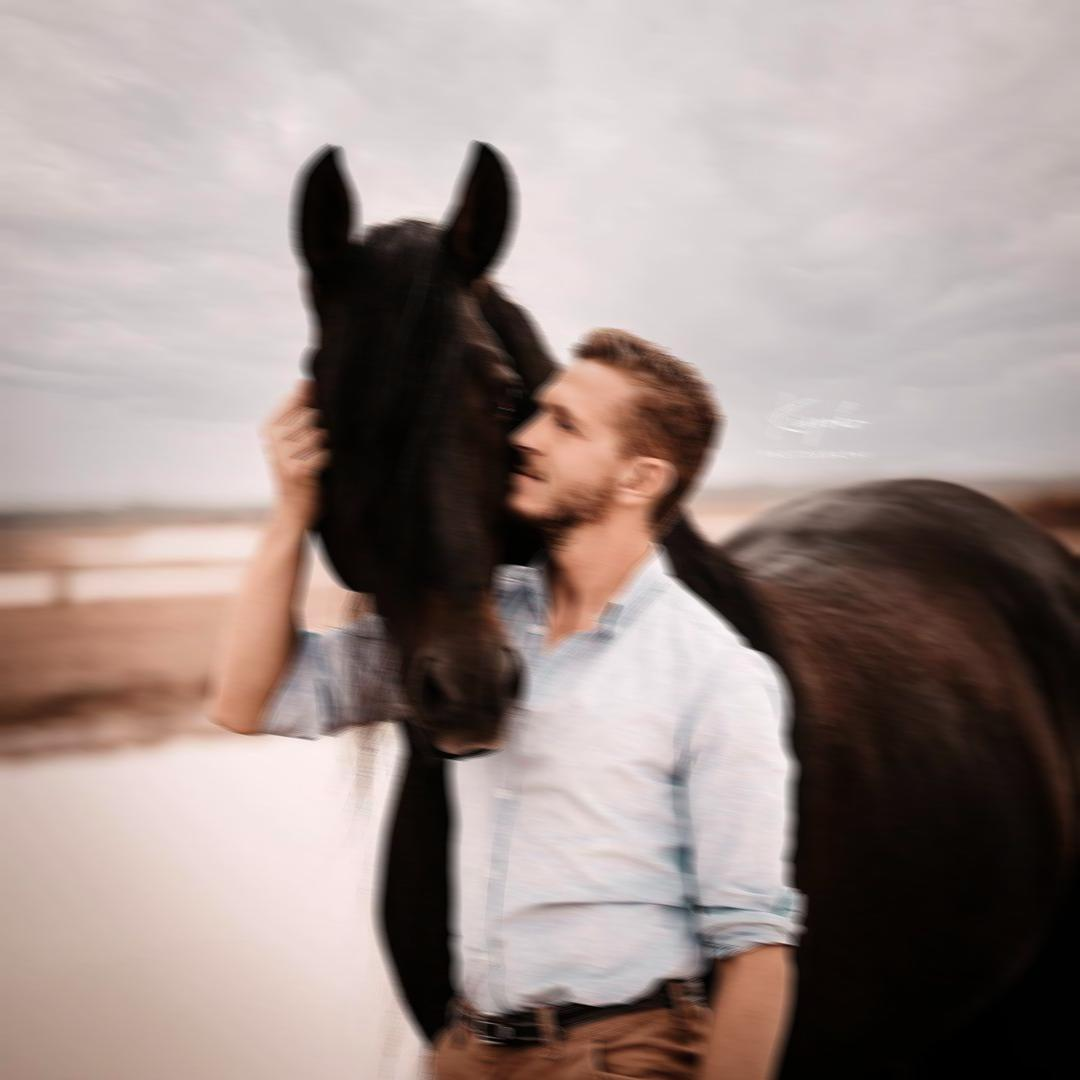horse: (291, 139, 1080, 1078)
